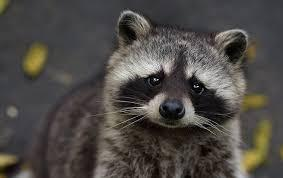raccoon: (19, 3, 273, 178)
